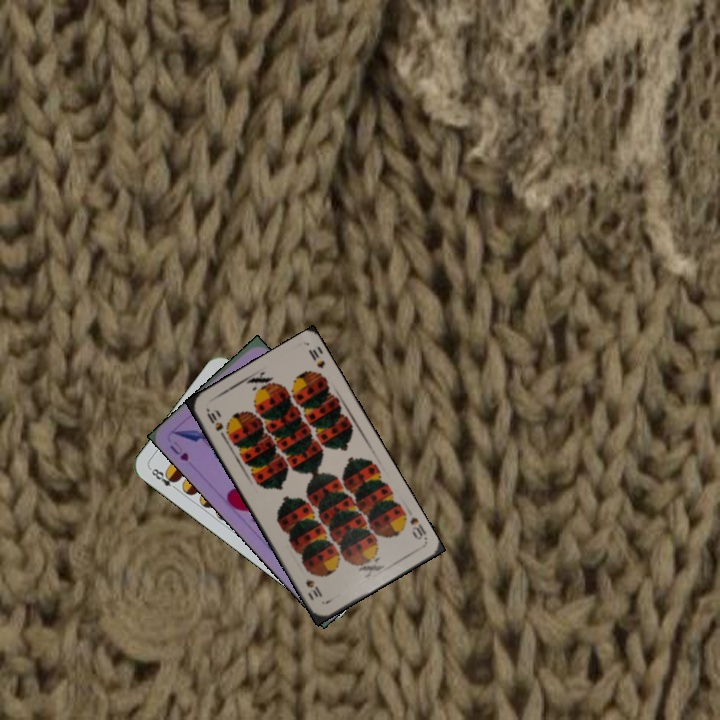E8: (146, 464, 181, 493)
HU: (166, 437, 191, 464)
S10: (202, 405, 229, 442), (406, 513, 429, 542)
